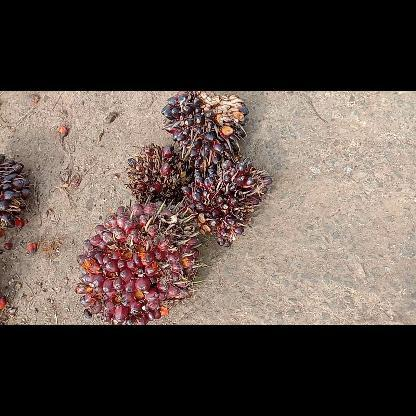TBS abnormal: (184, 160, 270, 246), (162, 92, 249, 168), (126, 145, 186, 203)
TBS masak: (75, 200, 201, 324)
